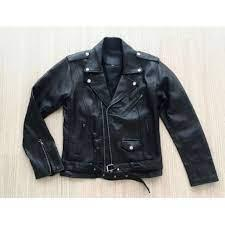jacket: (23, 38, 219, 187)
